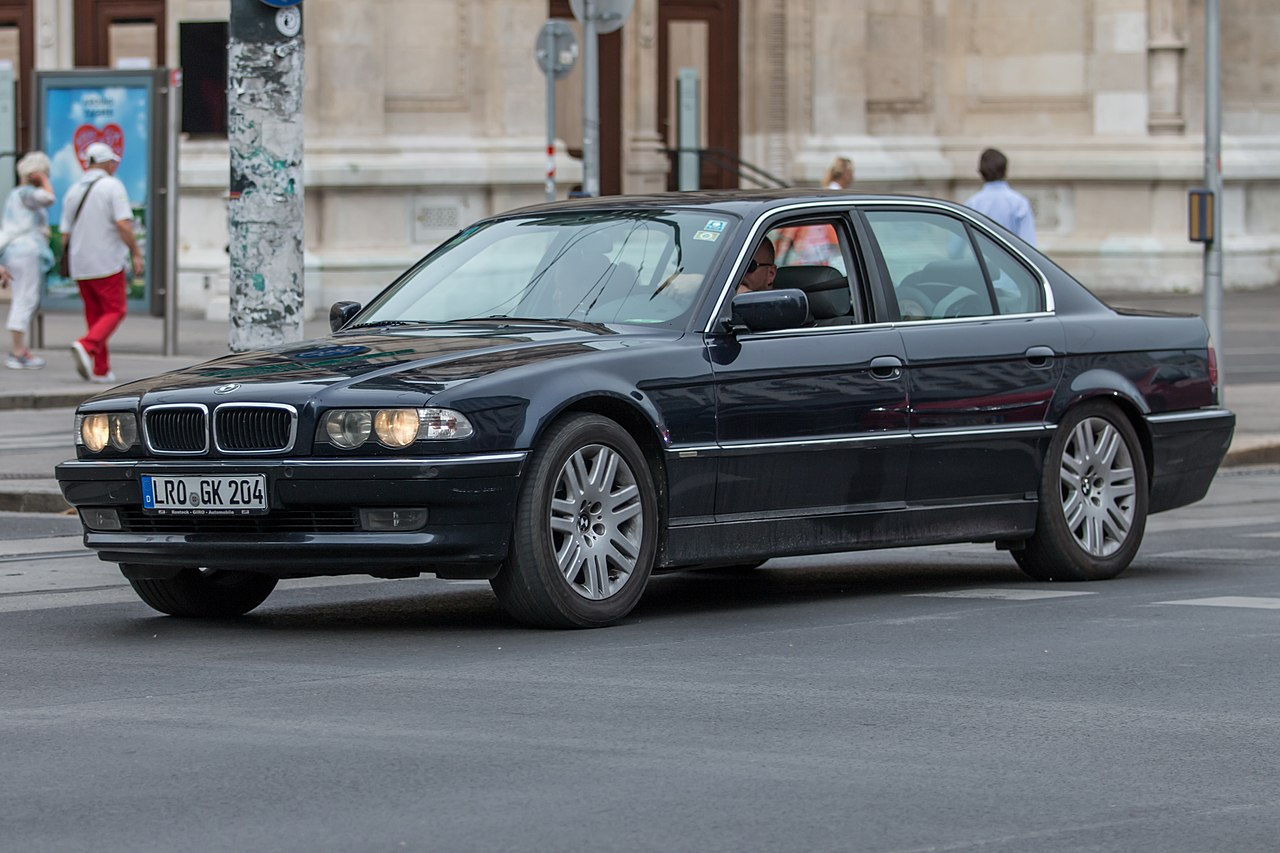plate: (139, 473, 269, 515)
